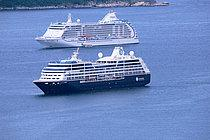Ship: (34, 47, 147, 102)
